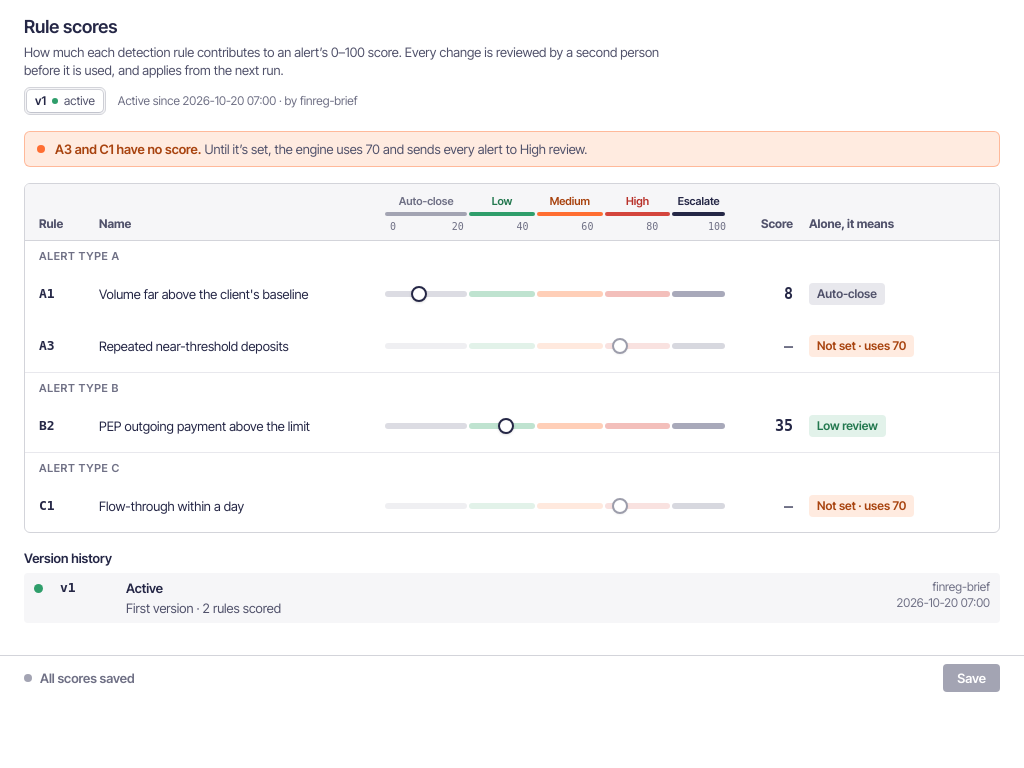
Test: TriageScoringPage › offers Save only once a score has changed
The image size is (1024, 768).
Expected: the text "All scores saved" is shown, [24, 669, 134, 688]
Expected: the button "Save" is disabled, [943, 664, 1000, 692]
Set the slider named "Score for A1" to "30" at point(490, 294), box [385, 282, 725, 306]
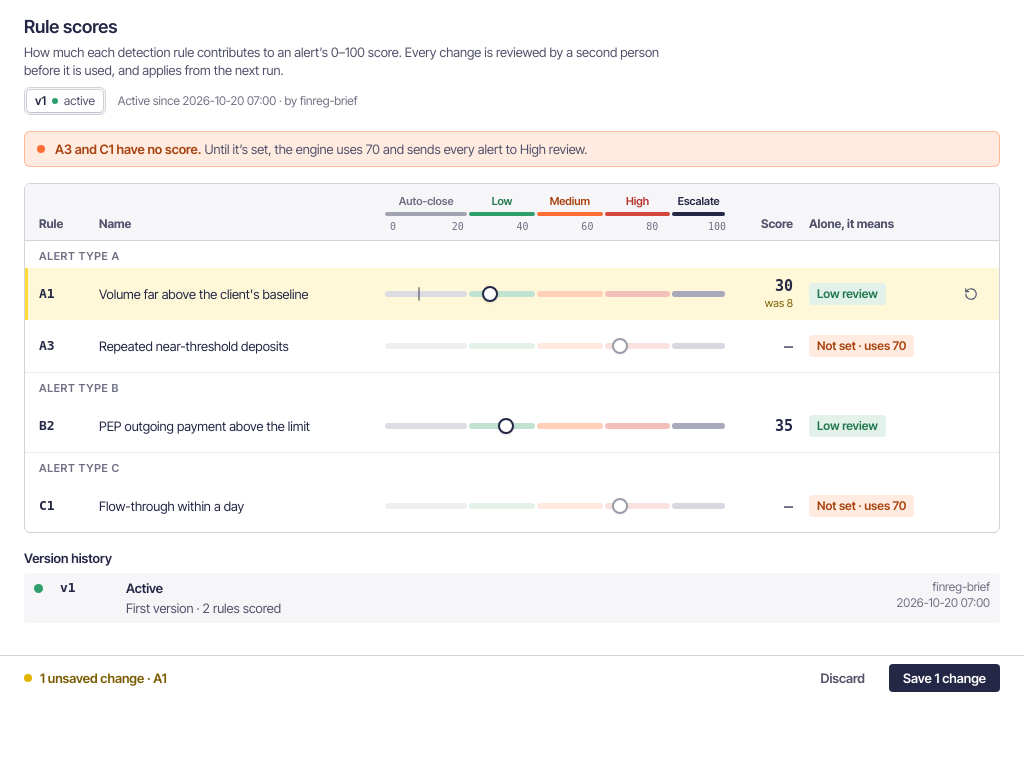
Now the text "1 unsaved change · A1" is shown, box [24, 669, 167, 688]
Now the button "Save 1 change" is enabled, box [889, 664, 1000, 692]
Now the button "Save 1 change" is shown, box [889, 664, 1000, 692]
Set the slider named "Score for B2" to "50" at point(555, 426), box [385, 414, 725, 438]
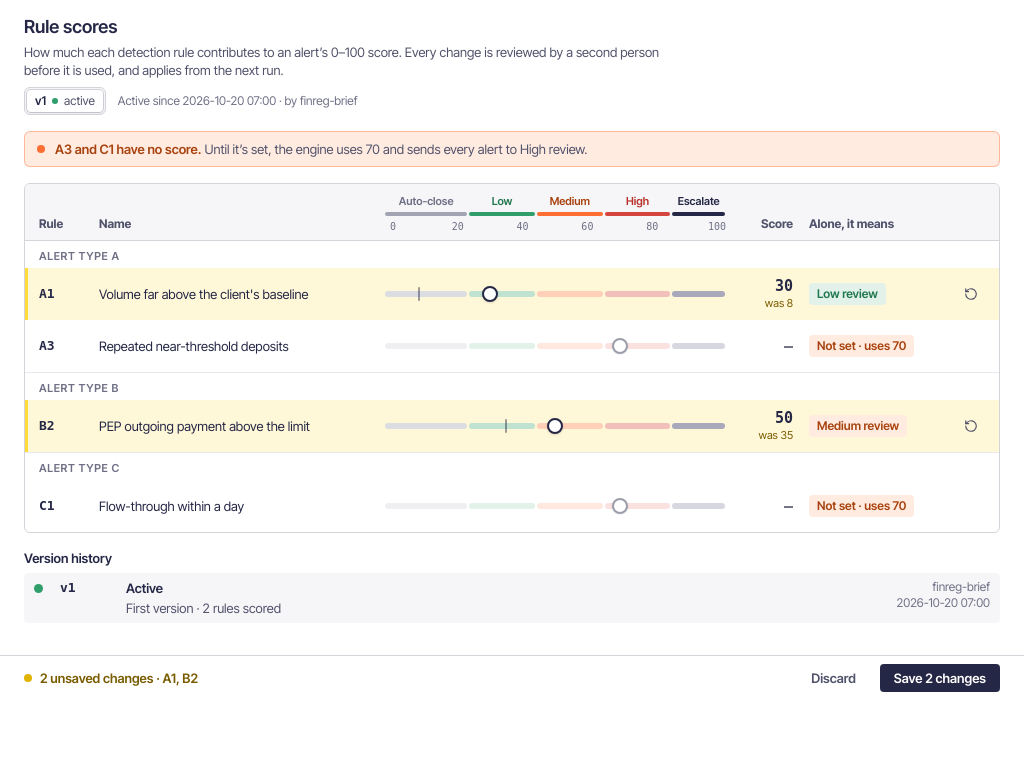
Now the text "2 unsaved changes · A1, B2" is shown, box [24, 669, 198, 688]
Now the button "Save 2 changes" is shown, box [880, 664, 1000, 692]
